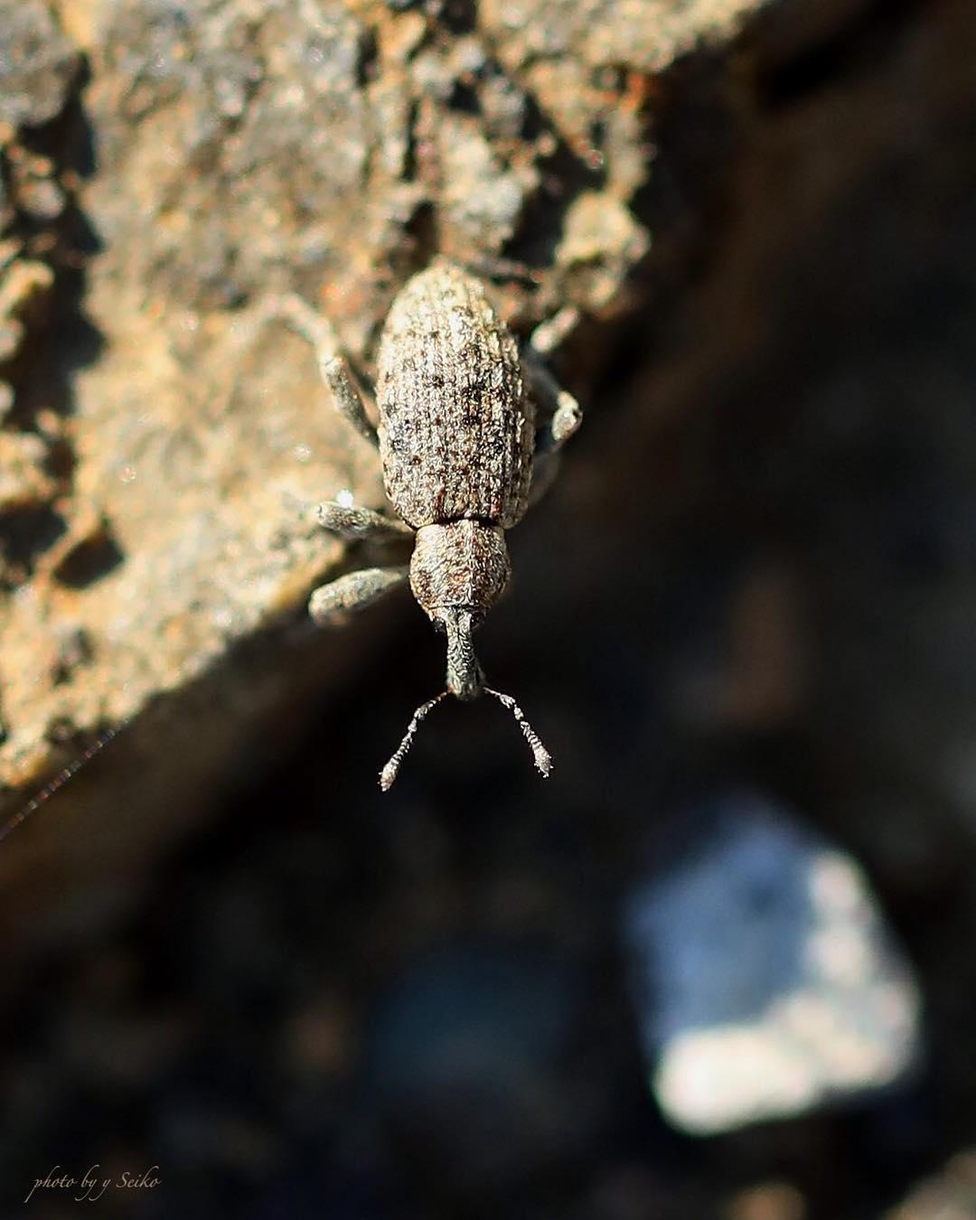weevils: (166, 139, 723, 895)
